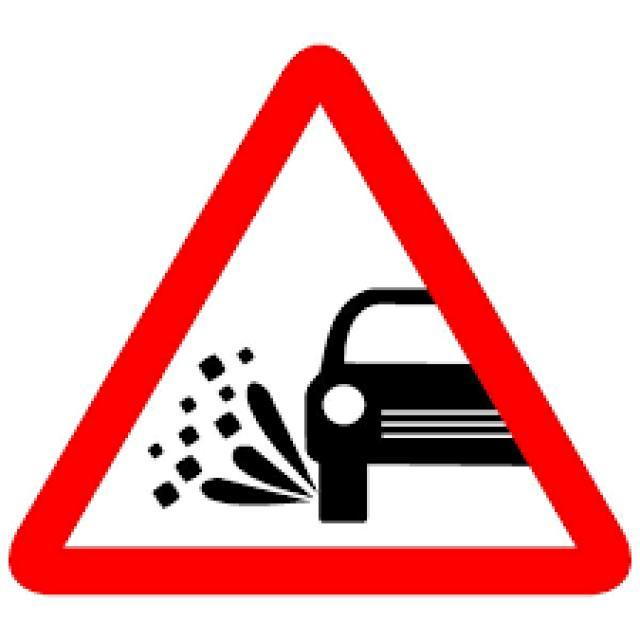loose gravel: (12, 44, 628, 600)
